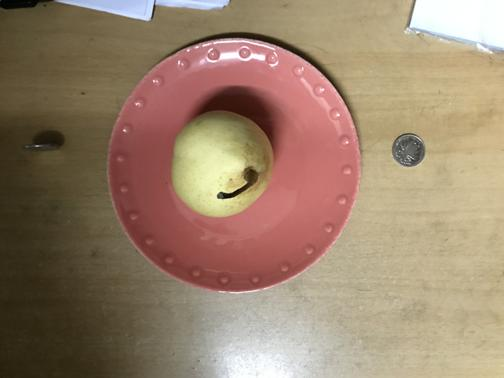coin: (392, 132, 426, 167)
pear: (168, 114, 272, 216)
